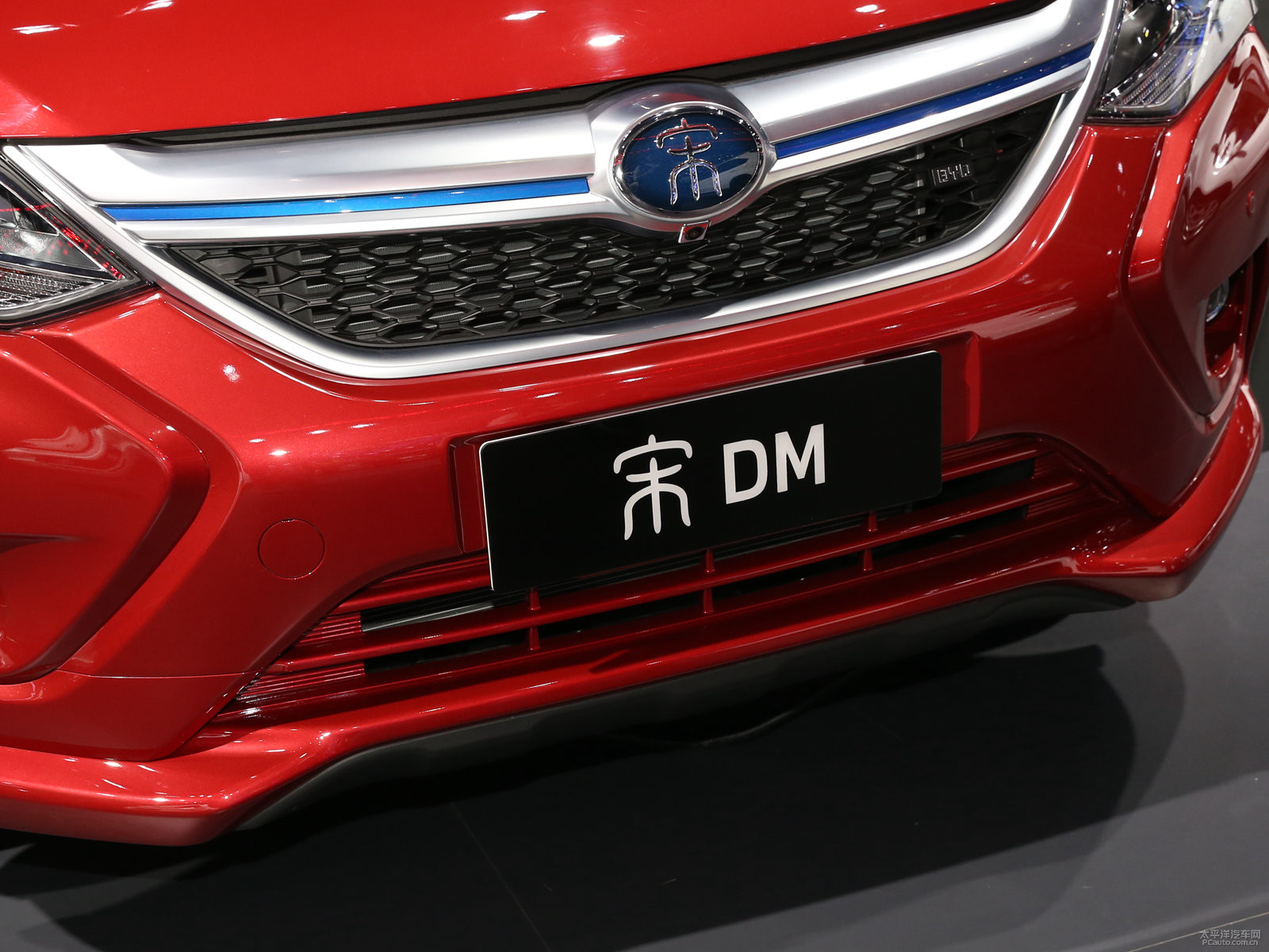BYD Song: (619, 106, 761, 213)
